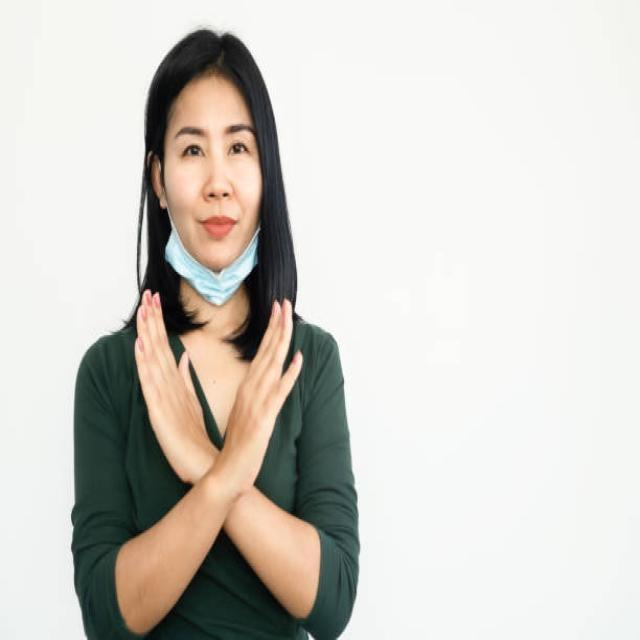hairnet: (138, 83, 298, 314)
no_gloves: (129, 23, 276, 143)
